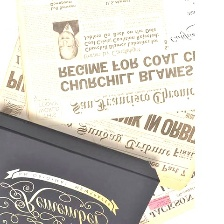news_paper: (0, 29, 195, 192), (12, 0, 217, 128), (135, 163, 200, 224)
